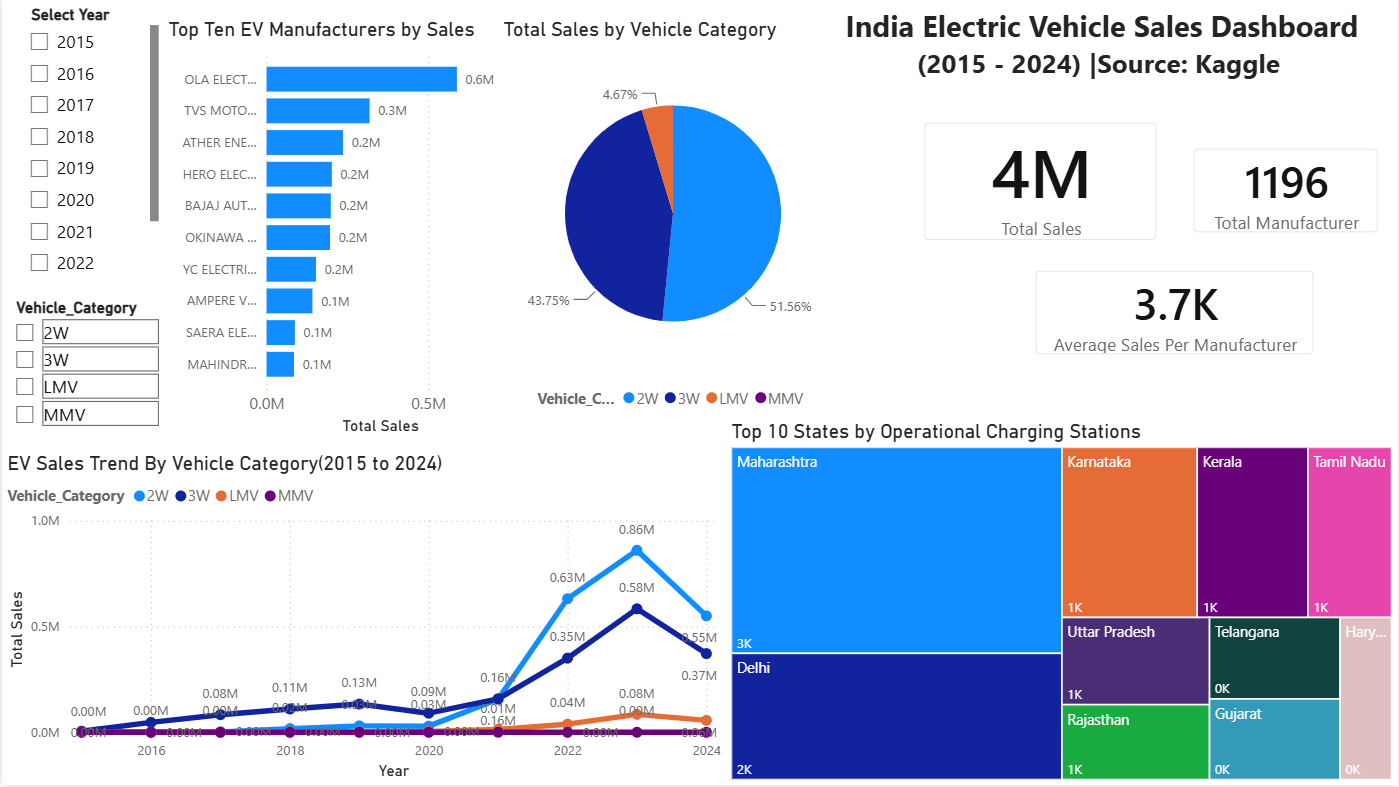

The page's visual inventory and layout, read from the dashboard file:
{"tool":"powerbi","page":{"name":"Page 1","canvas":[1280,720],"ordinal":0},"visuals":[{"type":"cardVisual","fields":{"Data":["EV_Sales_By_Makers.Total Sales"]},"box":[831.2,95.4,245,142.2],"z":0},{"type":"cardVisual","fields":{"Data":["Dim_EV_Maker.Total Manufacturer"]},"box":[1076.1,119.3,203.7,111.9],"z":1000},{"type":"barChart","title":"Top Ten EV Manufacturers by Sales","fields":{"Category":["Dim_EV_Maker.EV _Maker"],"Y":["EV_Sales_By_Makers.Total Sales"]},"box":[147.7,15.6,326.6,388.1],"z":2000},{"type":"lineChart","title":"EV Sales Trend By Vehicle Category(2015 to 2024)","fields":{"Category":["EV_Sales_By_Makers.Year"],"Y":["EV_Sales_By_Makers.Total Sales"],"Series":["EV_Sales_By_Makers.Vehicle_Category"]},"box":[0,413.8,664.2,306.4],"z":3000},{"type":"treemap","title":"Top 10 States by Operational Charging Stations","fields":{"Group":["Operationa_ChargingStation_by_Location.State"],"Values":["Sum(Operationa_ChargingStation_by_Location.No. of Operational PCS)"]},"box":[664.2,384.4,615.6,335.8],"z":4000},{"type":"cardVisual","fields":{"Data":["EV_Sales_By_Makers.Average Sales Per Manufacturer"]},"box":[931.2,231.2,289.9,111.9],"z":4001},{"type":"pieChart","title":"Total Sales by Vehicle Category","fields":{"Category":["EV_Sales_By_Makers.Vehicle_Category"],"Y":["EV_Sales_By_Makers.Total Sales"]},"box":[455,15.6,321.1,368.8],"z":4002},{"type":"textbox","box":[755,0,508.3,84.4],"z":4004},{"type":"slicer","fields":{"Values":["EV_Sales_By_Makers.Year"]},"box":[13.6,0,135.2,256.8],"z":4005},{"type":"slicer","fields":{"Values":["EV_Sales_By_Makers.Vehicle_Category"]},"box":[0,268.4,148.8,135.2],"z":4006}]}

Visuals, with their boxes in screenshot pixels (x1, y1, x2, y2), scaled from the page's 1280x720 canvas onto the 1399x787 screenshot:
cardVisual - EV_Sales_By_Makers.Total Sales: Rect(908, 104, 1176, 260)
cardVisual - Dim_EV_Maker.Total Manufacturer: Rect(1176, 130, 1398, 253)
"Top Ten EV Manufacturers by Sales" barChart: Rect(161, 17, 518, 441)
"EV Sales Trend By Vehicle Category(2015 to 2024)" lineChart: Rect(0, 452, 726, 786)
"Top 10 States by Operational Charging Stations" treemap: Rect(726, 420, 1398, 786)
cardVisual - EV_Sales_By_Makers.Average Sales Per Manufacturer: Rect(1018, 253, 1335, 375)
"Total Sales by Vehicle Category" pieChart: Rect(497, 17, 848, 420)
textbox: Rect(825, 0, 1381, 92)
slicer - EV_Sales_By_Makers.Year: Rect(15, 0, 163, 281)
slicer - EV_Sales_By_Makers.Vehicle_Category: Rect(0, 293, 163, 441)
